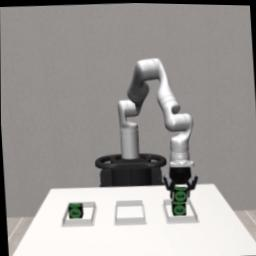cube1: (66, 202, 83, 218)
cube2: (171, 184, 188, 201)
cube3: (170, 199, 185, 214)
